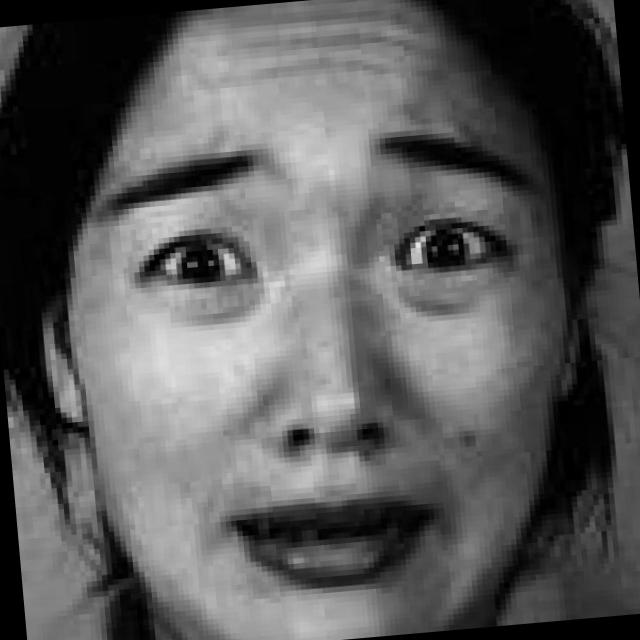fear: (70, 13, 588, 638)
